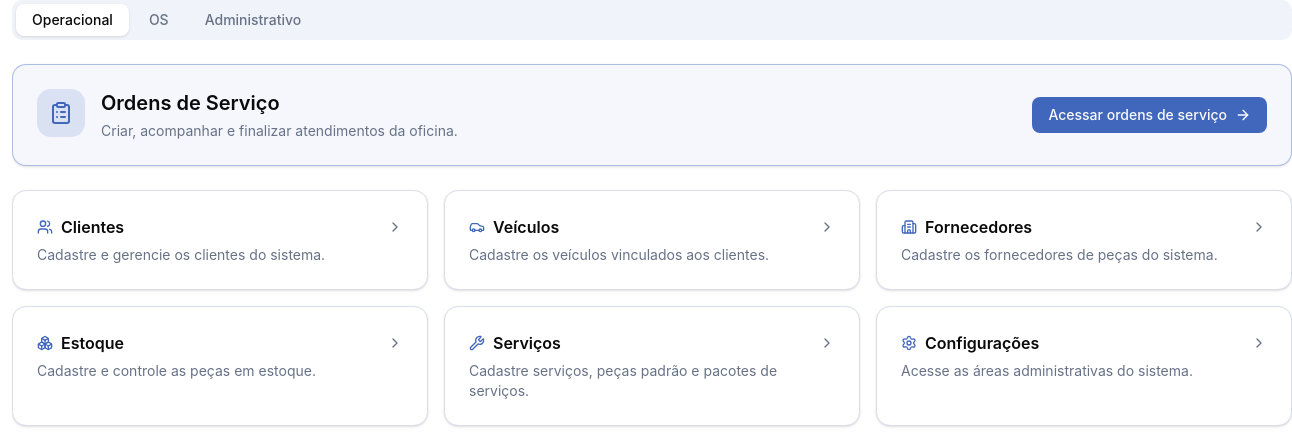
Test: DashboardTabs › switches to the OS board when the OS tab is clicked
The image size is (1292, 444).
Click the tab "OS". click: (159, 20)
box: x1=133 y1=4 x2=185 y2=36
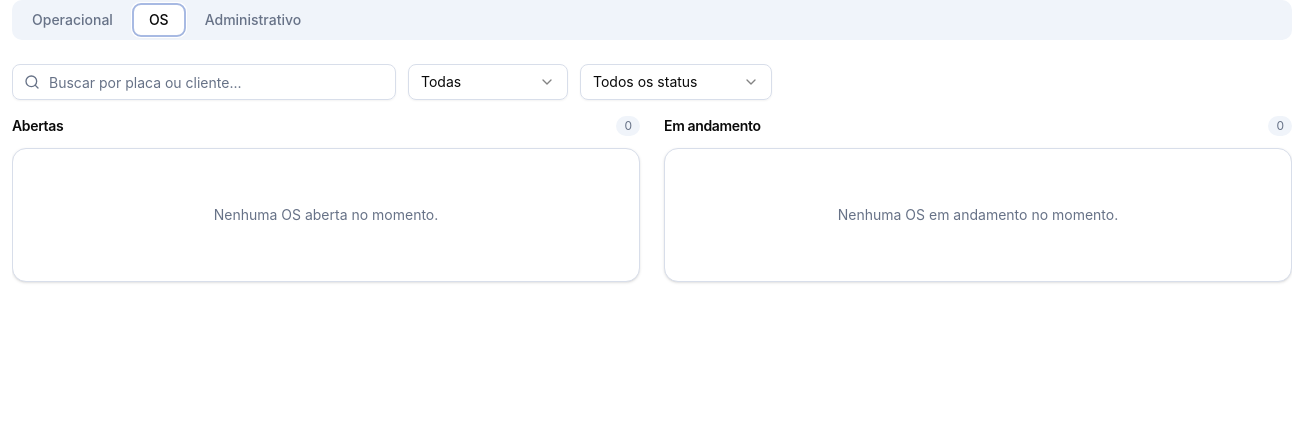
expect the text "Nenhuma OS aberta no momento." is shown: met, box x1=214 y1=206 x2=438 y2=223
expect the text "Nenhuma OS em andamento no momento." is shown: met, box x1=838 y1=206 x2=1118 y2=223
